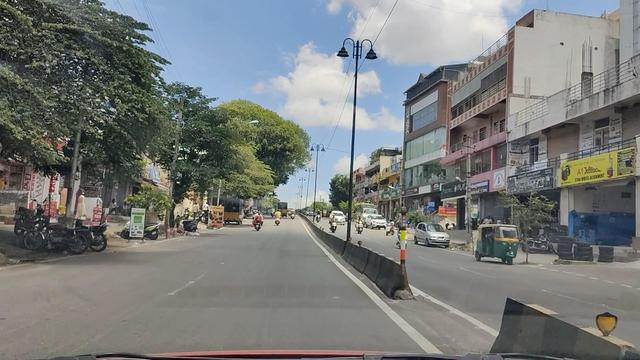LMV: (473, 226, 519, 262), (412, 222, 452, 251)
